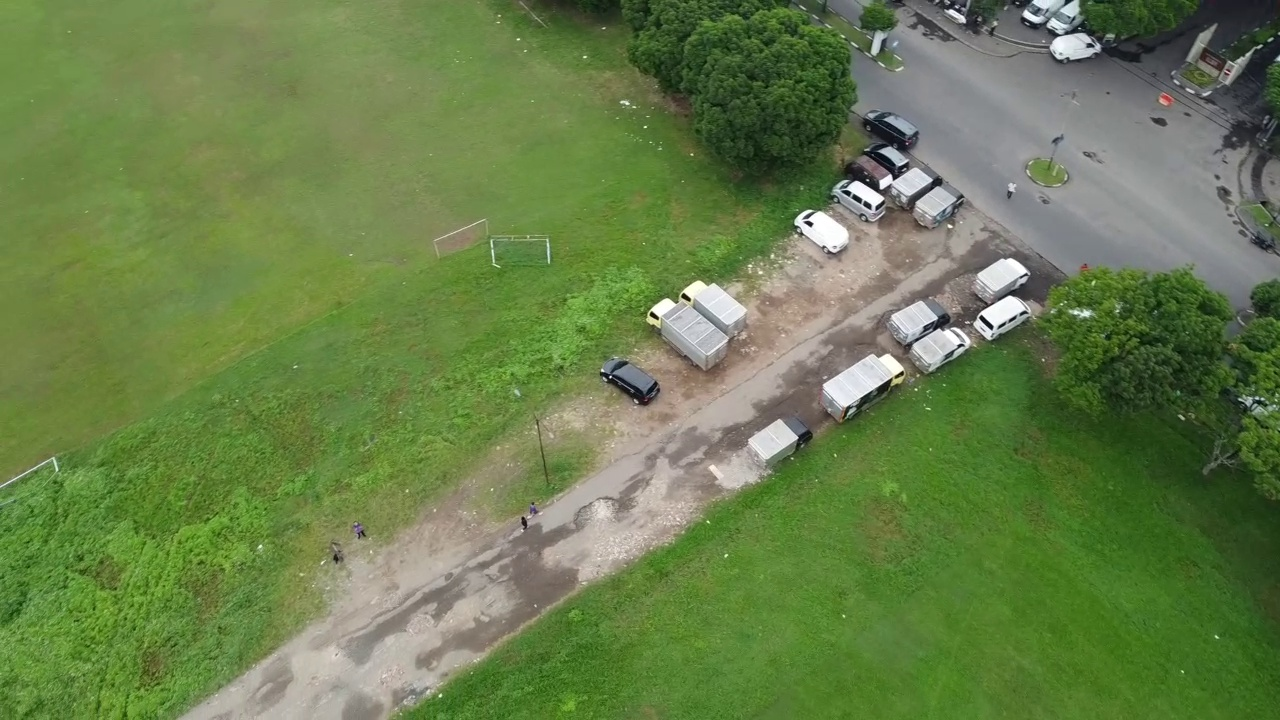mobil: (592, 351, 669, 411), (969, 288, 1034, 348), (854, 99, 926, 152), (824, 175, 893, 224), (793, 205, 855, 258), (1045, 31, 1106, 68), (841, 151, 897, 191), (858, 139, 912, 173), (1050, 1, 1090, 33), (1016, 1, 1063, 24)
